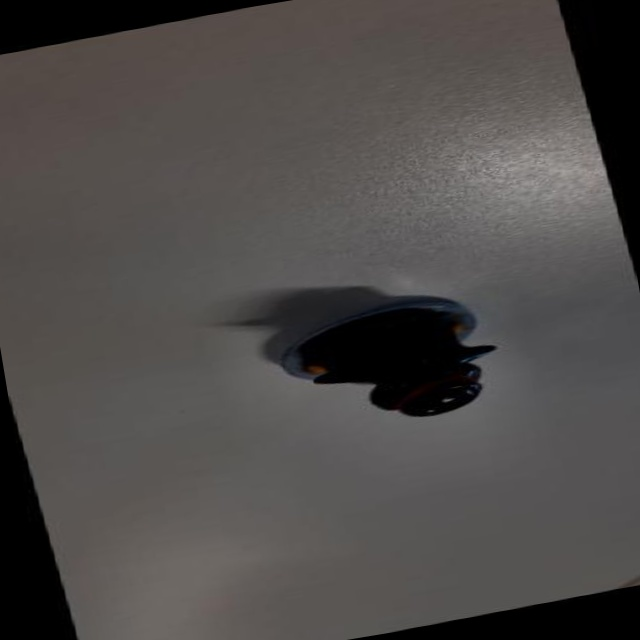Penguin: (265, 280, 515, 448)
